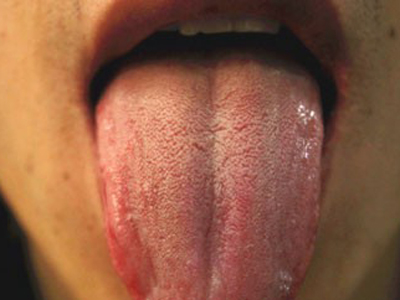baitaishe: (94, 61, 325, 300)
